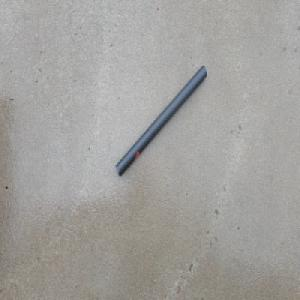LuggagePart: (115, 63, 207, 177)
